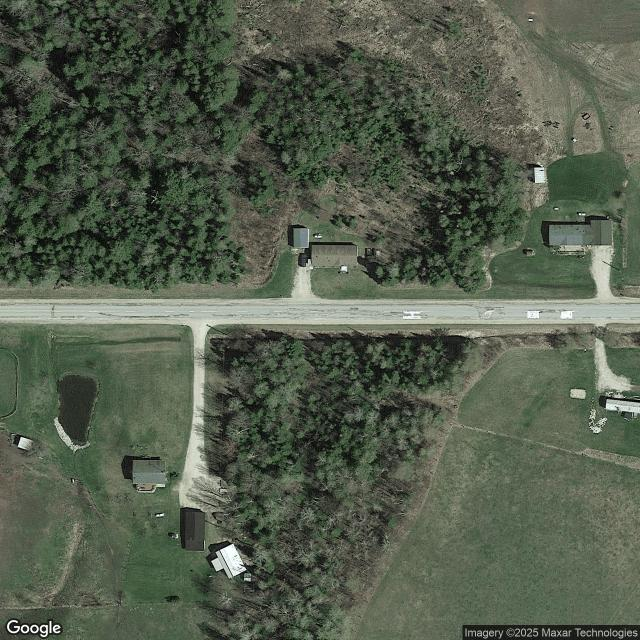Propane: (155, 513, 164, 518), (314, 235, 322, 238), (578, 213, 586, 216)
